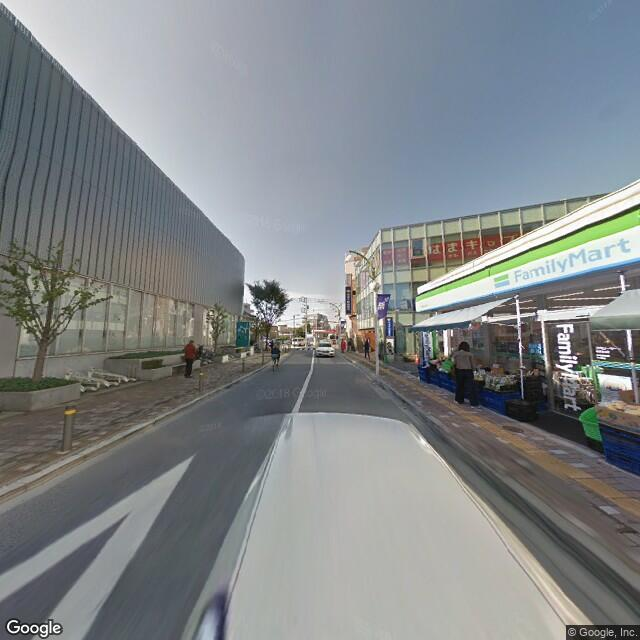family_mart: (414, 205, 637, 315), (492, 227, 633, 294), (551, 315, 584, 413)
